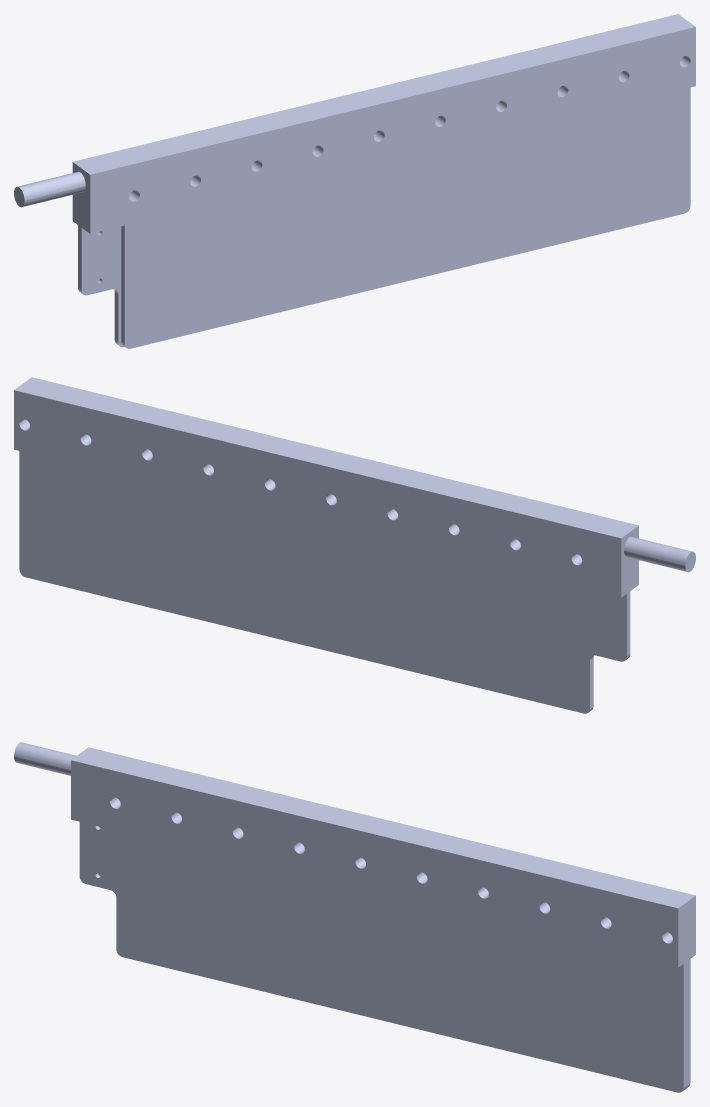
The model's file is MUA-9.glb.
The picture shows the model from 3 angles, top to bottom: view 1: azimuth 30°, elevation 25°; view 2: azimuth 150°, elevation 25°; view 3: azimuth 330°, elevation 25°; orthographic projection.
Parts seen in each view (by area): view 1: MUA-9_node_1; view 2: MUA-9_node_1; view 3: MUA-9_node_1.
Boxes of the visible parts, x1=… form: MUA-9_node_1: x1=14, y1=14, x2=695, y2=348; MUA-9_node_1: x1=14, y1=377, x2=695, y2=713; MUA-9_node_1: x1=14, y1=742, x2=695, y2=1092.
Size of the model in its own units: 218 by 59.1 by 10.
